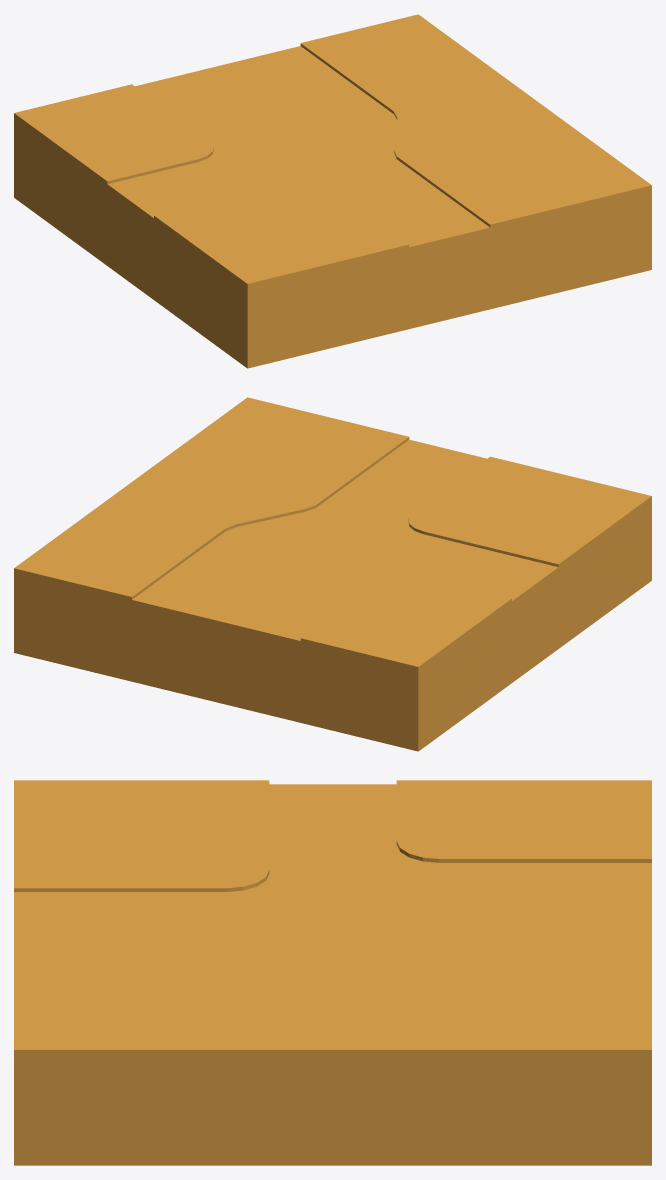
Rendered from tile-mainroad-road-intersection-t.fbx.
3 renders of one model, top to bottom at view 1: azimuth 30°, elevation 25°; view 2: azimuth 150°, elevation 25°; view 3: azimuth 270°, elevation 25°, orthographic. The views are drawn at different scales.
Parts seen in each view (by area): view 1: tile-mainroad-road-intersection-t; view 2: tile-mainroad-road-intersection-t; view 3: tile-mainroad-road-intersection-t.
Part boxes in pixels (x1,y1,x2,y2): tile-mainroad-road-intersection-t: (14, 14, 651, 368); tile-mainroad-road-intersection-t: (14, 397, 651, 751); tile-mainroad-road-intersection-t: (14, 780, 651, 1165).
Size of the model in its own units: 30 by 6 by 30.
